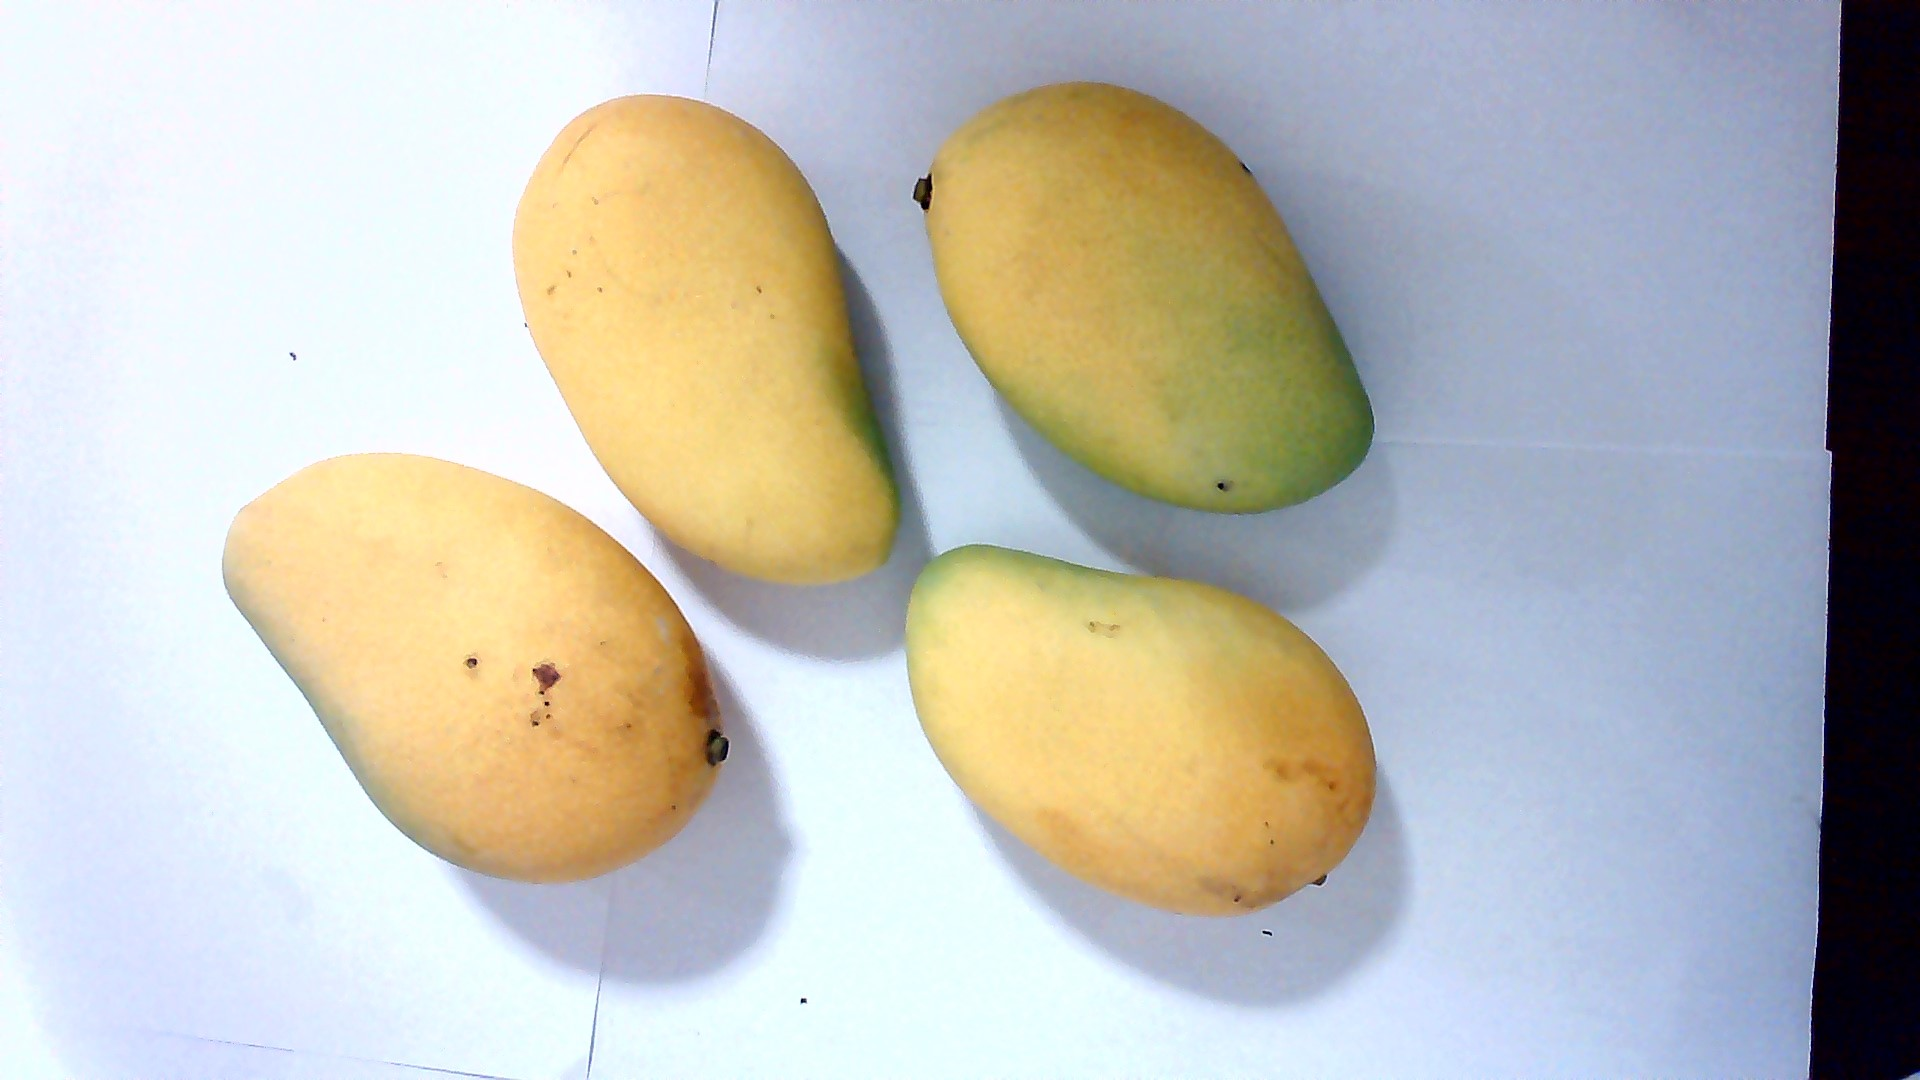mongo: (218, 435, 733, 876), (903, 73, 1389, 524), (473, 92, 891, 593), (899, 531, 1381, 930)
